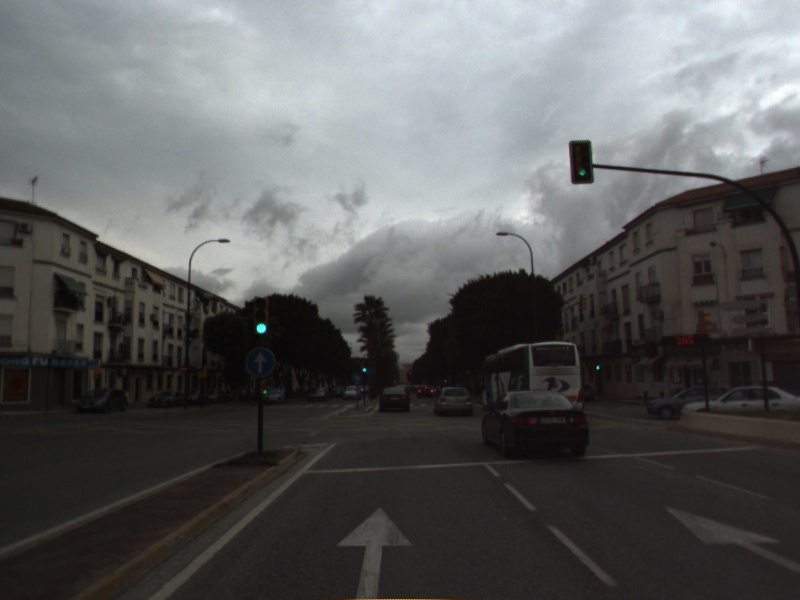STRAIGHT: (661, 503, 800, 574), (333, 504, 415, 600)
